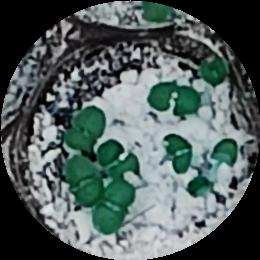Basil: (146, 81, 203, 119), (94, 180, 134, 233), (65, 105, 103, 148), (101, 142, 143, 179), (73, 151, 101, 204), (164, 134, 189, 172), (214, 137, 234, 165)
